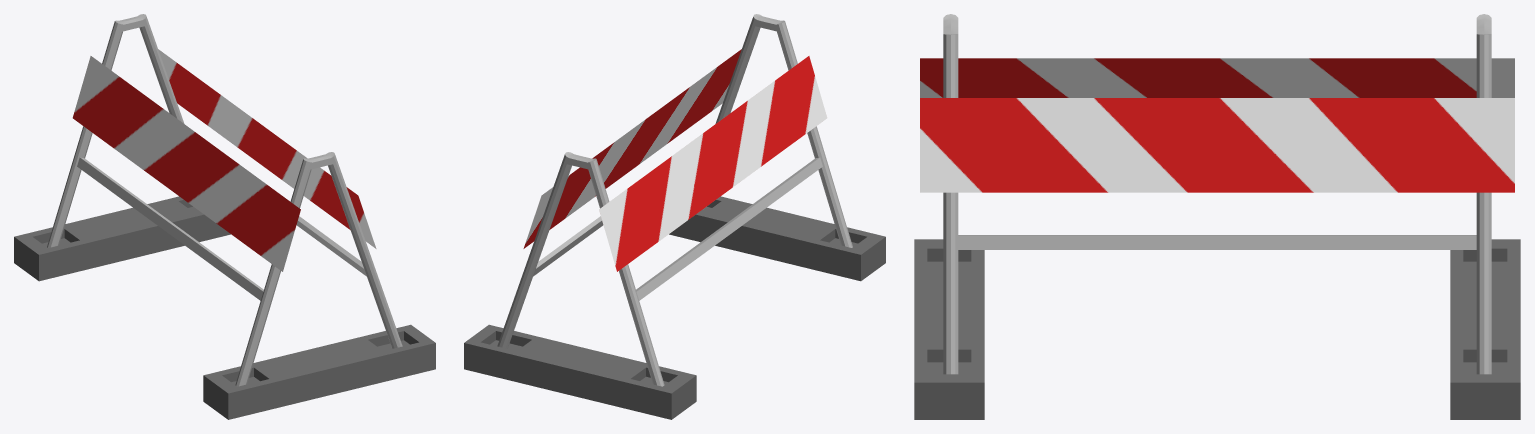
The model's file is absperrung_01.fbx.
3 views of the same model, side by side, from view 1: azimuth 30°, elevation 25°; view 2: azimuth 150°, elevation 25°; view 3: azimuth 270°, elevation 25° (orthographic). The views are drawn at different scales.
Parts seen in each view (by area): view 1: pPlane1, gestell, pCube2, pCube1, pPlane2; view 2: pPlane1, gestell, pCube1, pCube2, pPlane2; view 3: pPlane2, pPlane1, gestell, pCube2, pCube1.
Boxes of the visible parts, left/top/right/bottom form: pPlane1: left=72, top=56, right=300, bottom=271; gestell: left=47, top=14, right=402, bottom=386; pCube2: left=203, top=324, right=435, bottom=419; pCube1: left=14, top=196, right=230, bottom=281; pPlane2: left=158, top=49, right=376, bottom=248; pPlane1: left=599, top=56, right=827, bottom=271; gestell: left=497, top=14, right=852, bottom=386; pCube1: left=464, top=324, right=696, bottom=419; pCube2: left=669, top=196, right=885, bottom=281; pPlane2: left=523, top=49, right=741, bottom=248; pPlane2: left=920, top=98, right=1514, bottom=192; pPlane1: left=920, top=58, right=1514, bottom=97; gestell: left=943, top=14, right=1491, bottom=374; pCube2: left=914, top=239, right=984, bottom=419; pCube1: left=1450, top=239, right=1520, bottom=419.
Bounding box in the file's own units: 3.55 × 3.74 × 6.34.
3 materials, 1 textured.
